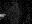person: (1, 14, 8, 18)
